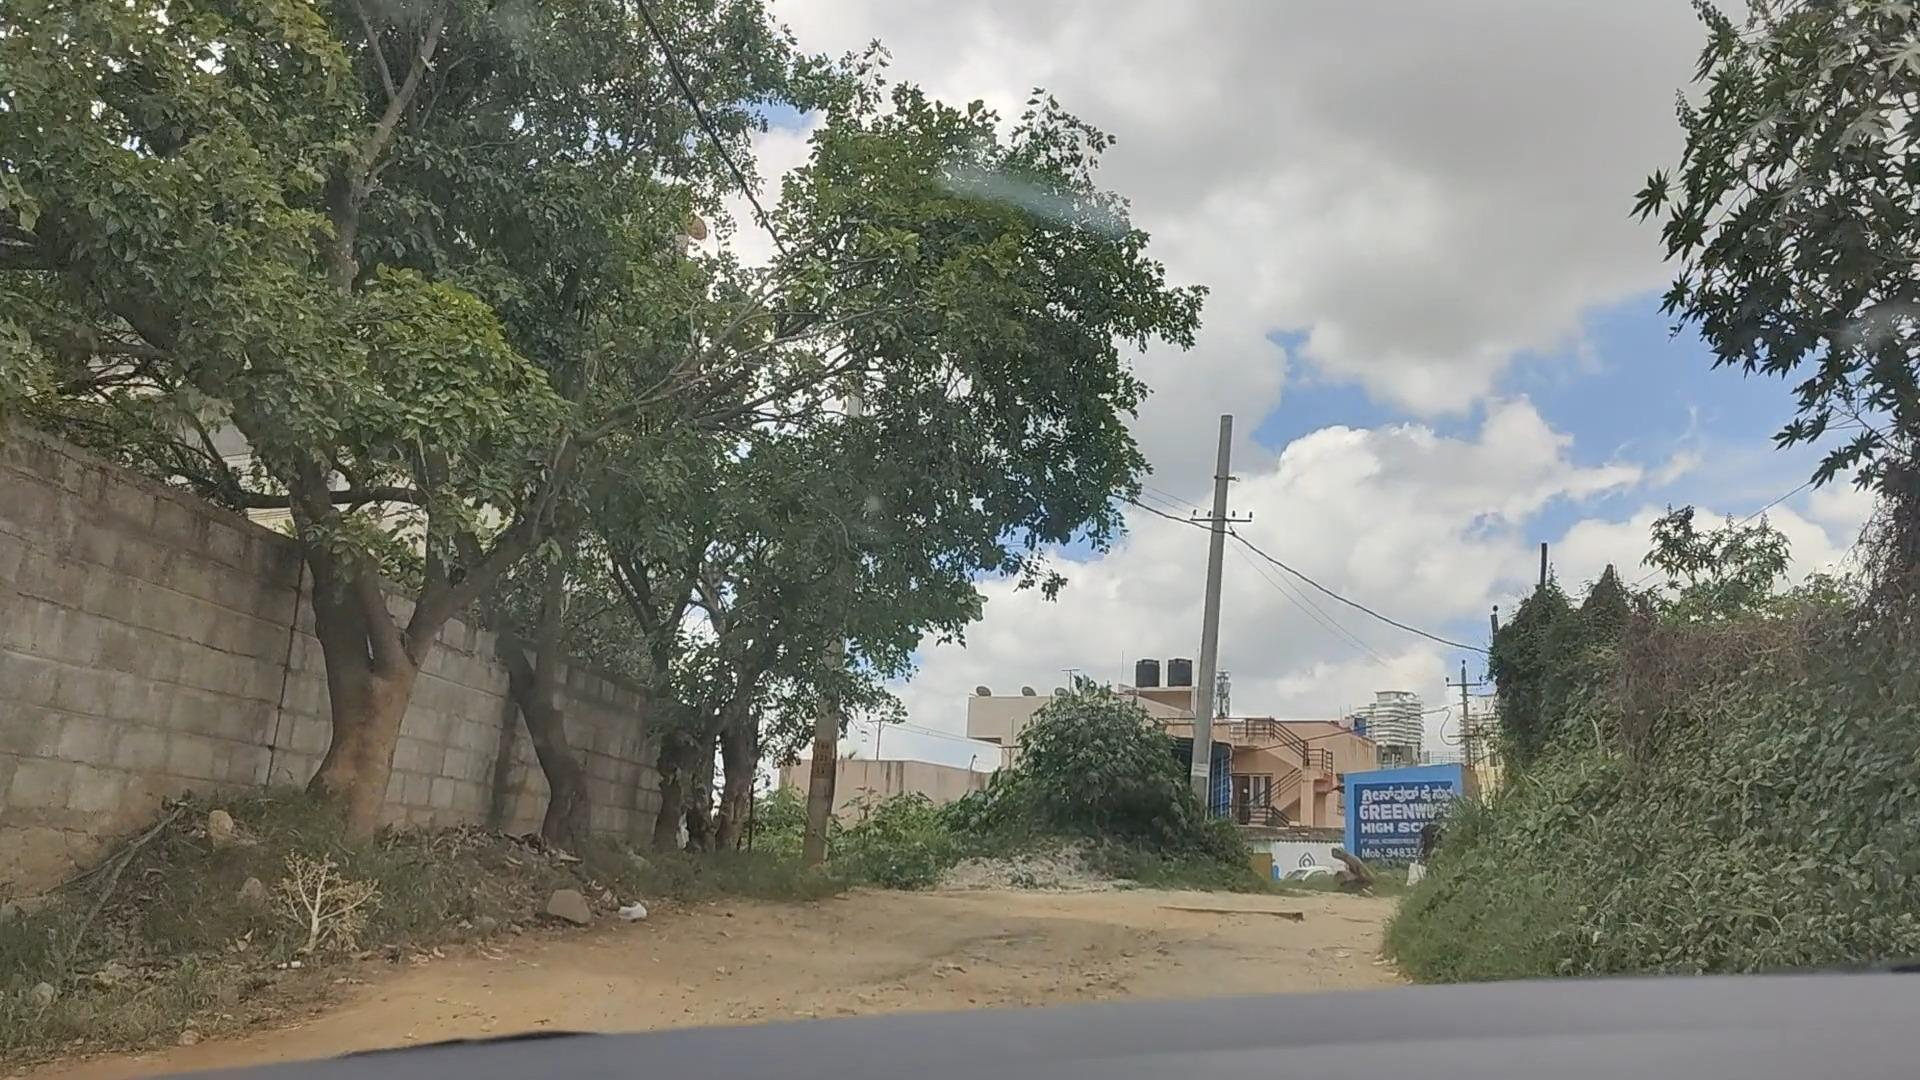RoadDamages: (795, 898, 1218, 1017)
